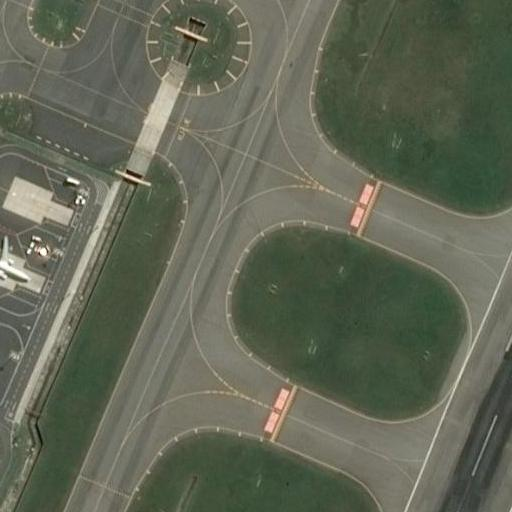Aircraft: (0, 231, 29, 289)
